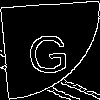G: (25, 25, 71, 75)
